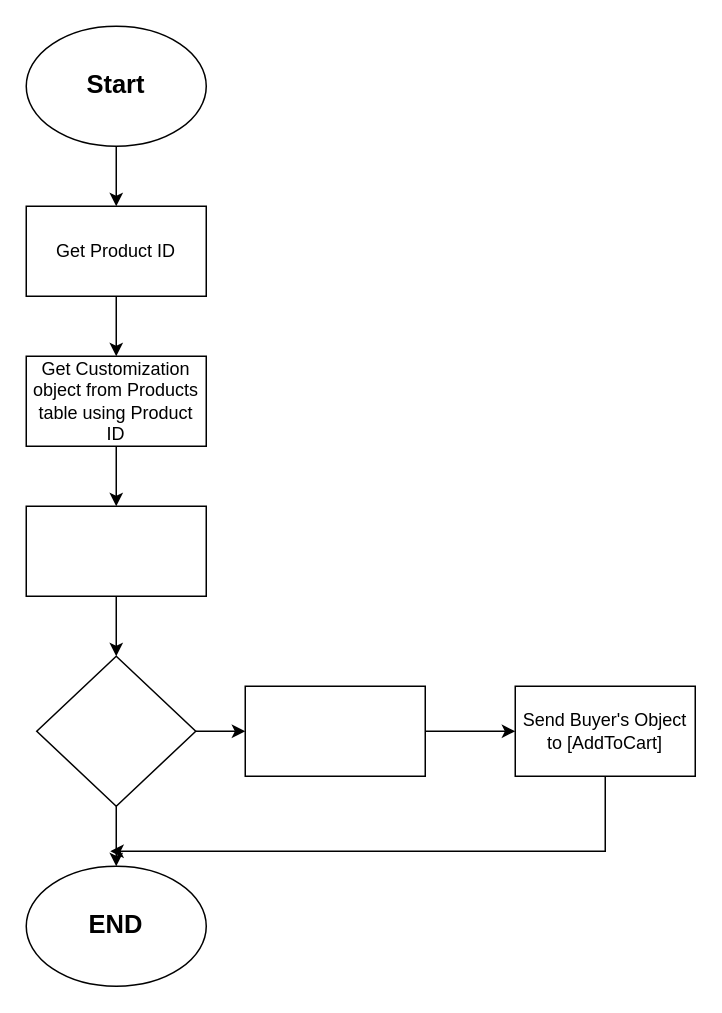
Image size: 722x1013. Some labels were removed from this diagram. The centre of each missing label's shape, as x and y in pixels:
"Add option in BuyersObject" belongs at (334,730).
"Option Clicked in the DropDown" belongs at (115,730).
"Show Each Child in Customization Object as a seperate Dropdown" belongs at (115,550).
